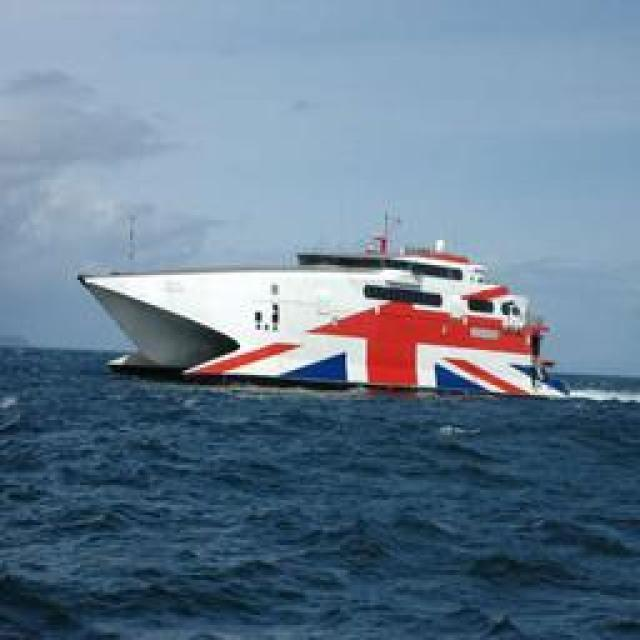CIV_Ship: (74, 264, 586, 394)
